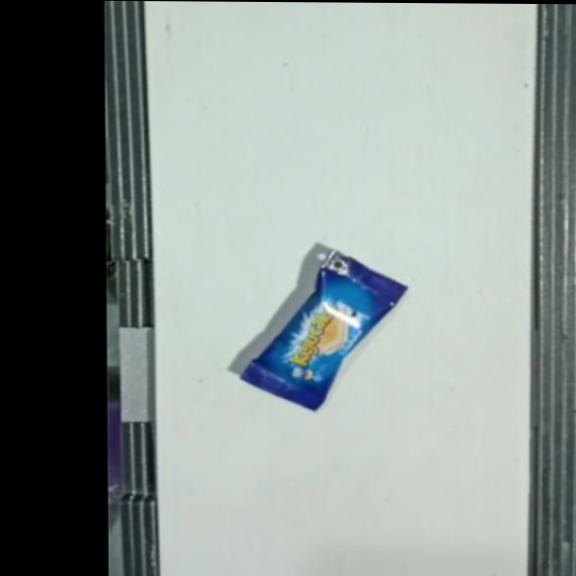Plastik: (236, 248, 408, 413)
